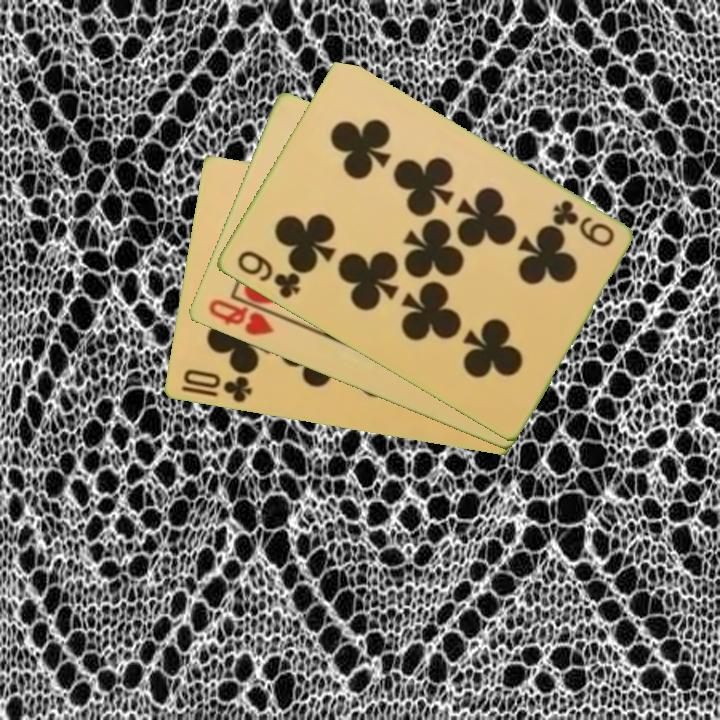10c: (177, 366, 254, 406)
9c: (233, 247, 303, 302), (548, 196, 617, 250)
Qh: (204, 295, 276, 339)
